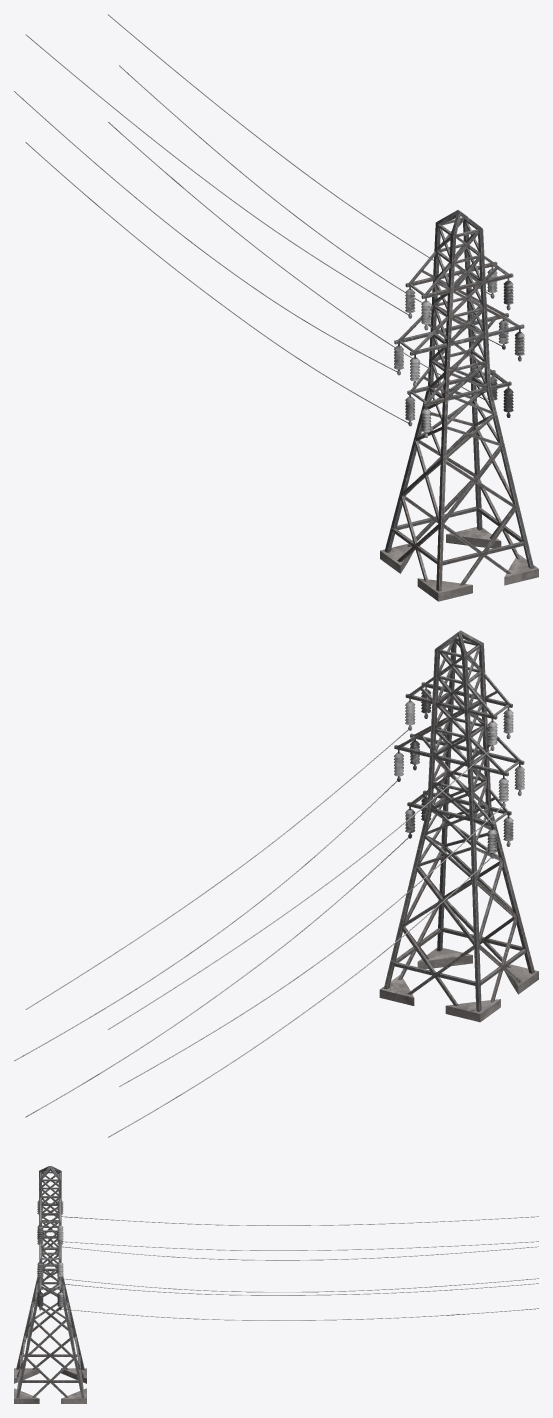
File: PowerTowerMesh.fbx
The picture shows the model from 3 angles, top to bottom: view 1: azimuth 30°, elevation 25°; view 2: azimuth 150°, elevation 25°; view 3: azimuth 270°, elevation 25°; orthographic projection. The views are drawn at different scales.
Visible parts, largest first — view 1: Tower, Disks, Blocks; view 2: Tower, Disks, Blocks; view 3: Tower, Disks, Blocks.
Part boxes in pixels (x1,y1,x2,y2): Tower: [384, 210, 533, 591]; Disks: [14, 14, 524, 437]; Blocks: [380, 527, 538, 601]; Tower: [384, 630, 534, 1011]; Disks: [14, 687, 524, 1137]; Blocks: [379, 948, 538, 1022]; Tower: [16, 1166, 84, 1397]; Disks: [37, 1200, 538, 1320]; Blocks: [14, 1368, 86, 1403].
Size of the model in its own units: 11.94 by 35.94 by 76.85.
Materials: 3 (3 with a texture image).
